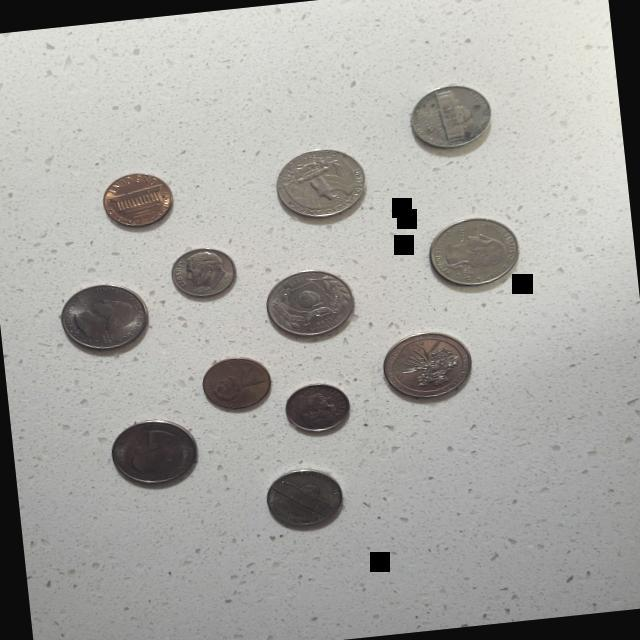Dime: (164, 238, 242, 304), (280, 378, 355, 433)
Nickel: (400, 78, 502, 153), (261, 462, 348, 532)
Penny: (195, 350, 276, 416), (96, 167, 180, 230)
Quarter: (262, 141, 381, 236), (418, 210, 526, 298), (58, 276, 160, 366), (260, 261, 362, 348), (378, 326, 482, 407), (104, 412, 204, 493)
